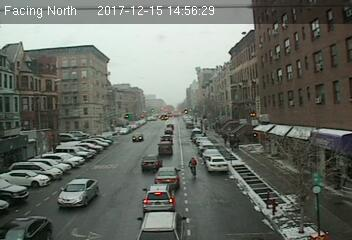bicycle: (188, 155, 198, 183)
car: (134, 210, 190, 240), (1, 214, 53, 240), (56, 178, 99, 206), (141, 182, 175, 209), (153, 166, 180, 183), (203, 156, 230, 173), (141, 154, 162, 170), (158, 141, 171, 154), (131, 132, 143, 142)
